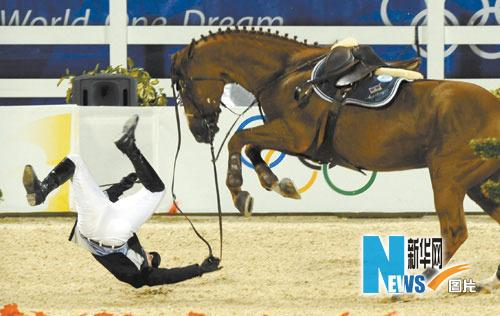fall: (5, 110, 232, 293)
